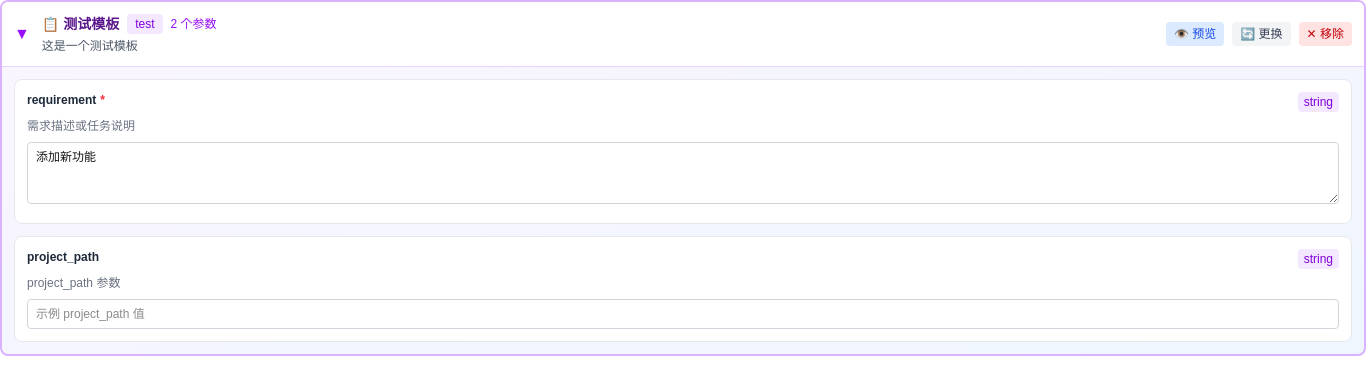
Test: TemplateBindingCard › additionalContext 应该用于渲染模板预览
Step 1. Click the button titled "预览效果" → (1195,34), box [1166,22,1224,46]
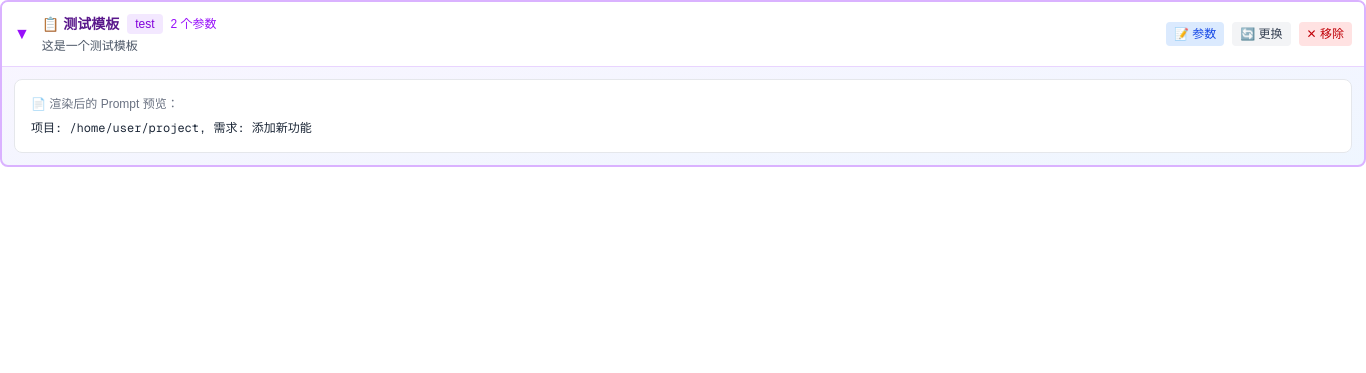
Expected: the text "项目: /home/user/project, 需求: 添加新功能" is shown, [31,120,312,136]
